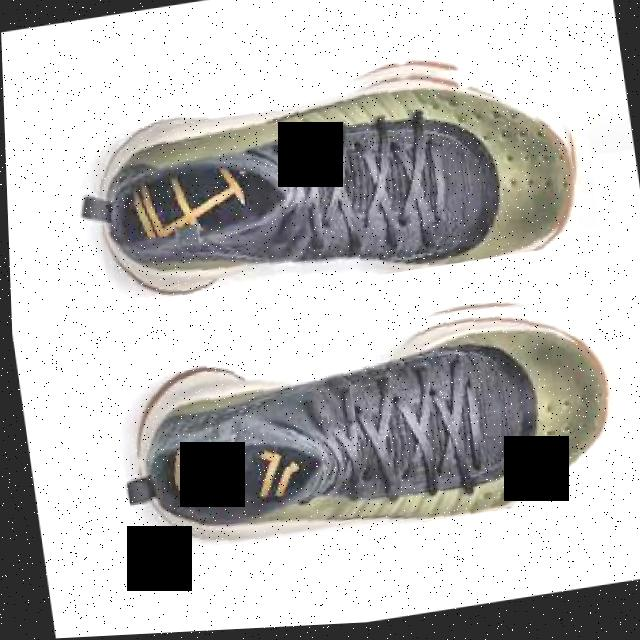shoe: (103, 282, 623, 569), (80, 41, 587, 319)
